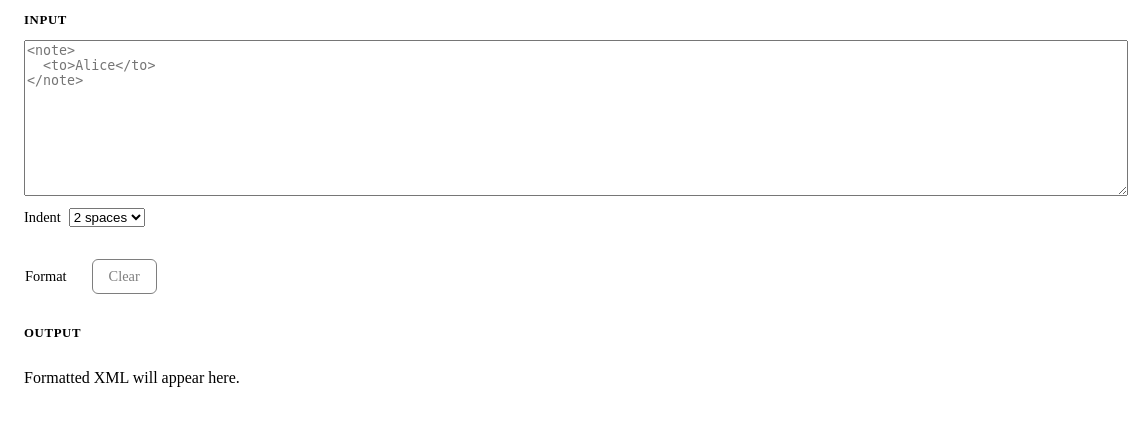
it: XmlFormatterTool › clears input and output
Type "<a/>" into the text box named "XML input" at point(576, 118), box [24,40,1128,196]
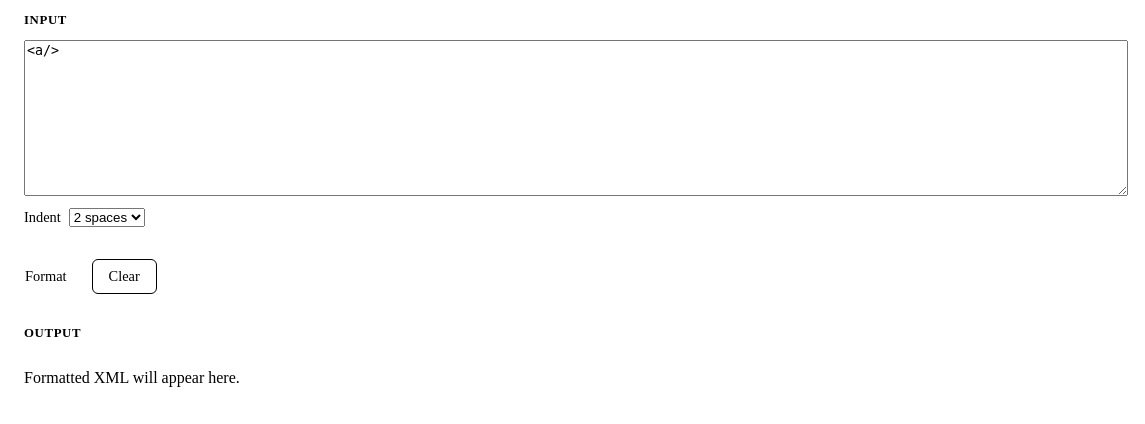
Click the button "Format" at point(46, 276), box [8,259,84,294]
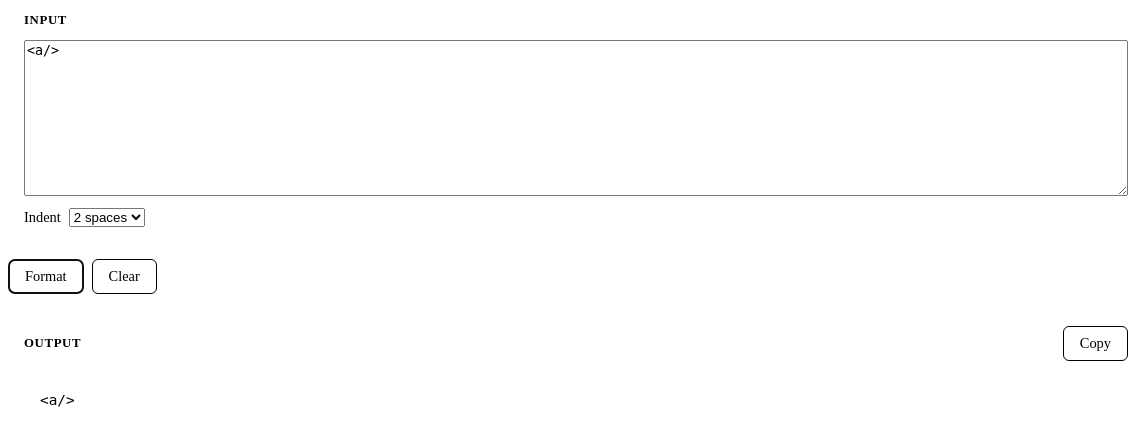
Click the button "Clear" at point(124, 276), box [92,259,157,294]
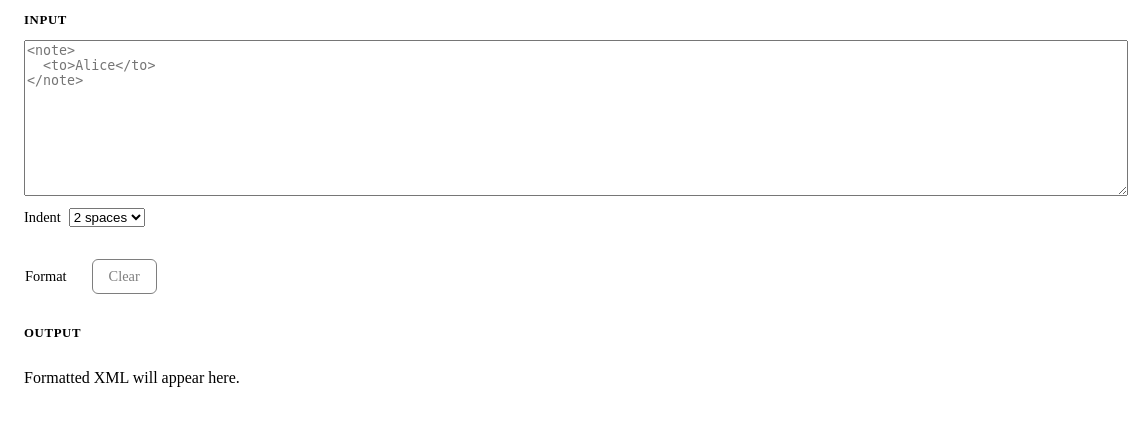
Expected: the text box named "XML input" is empty, [24,40,1128,196]
Expected: the text "Formatted XML will appear here." is shown, [24,369,240,386]
